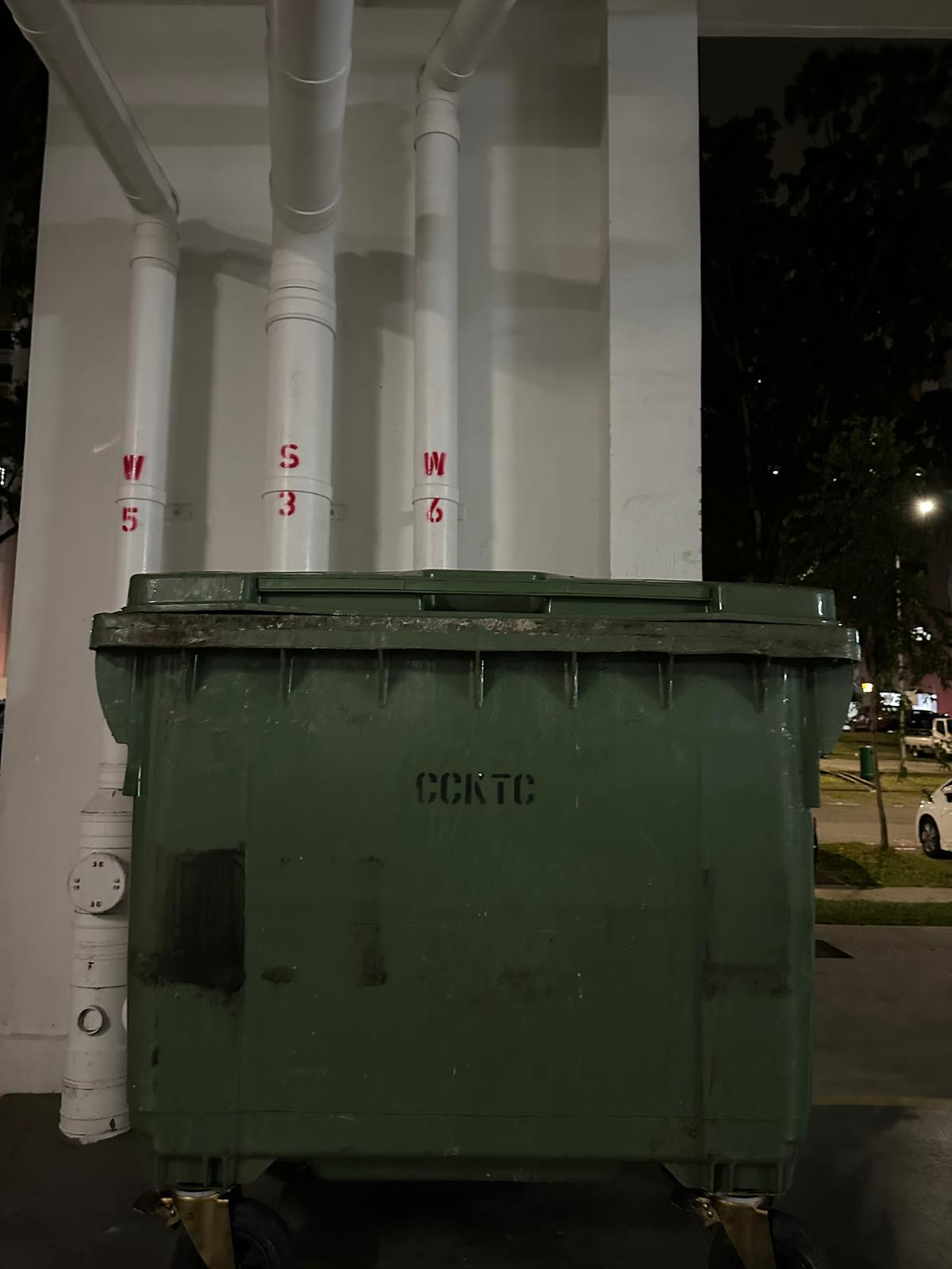bin_empty: (70, 569, 858, 1268)
